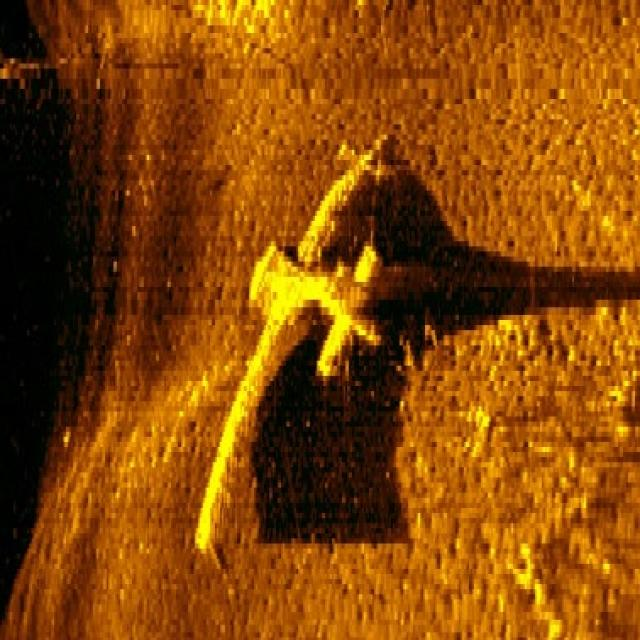plane: (168, 119, 414, 572)
